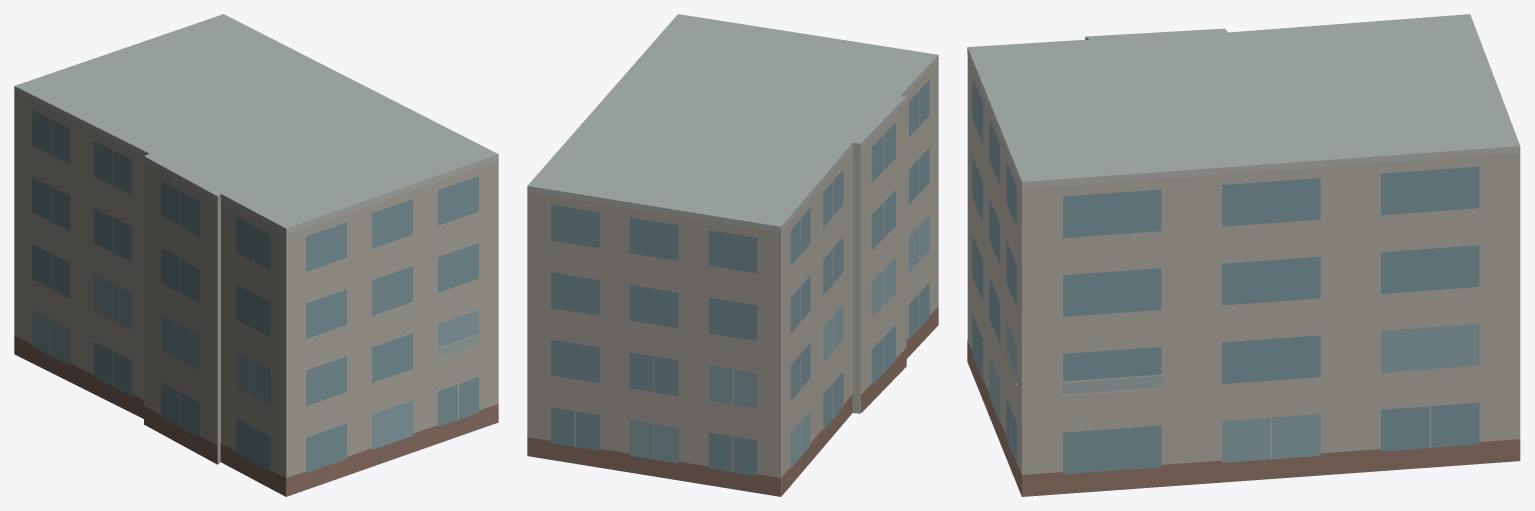
The model's file is survey-upis-32527064.glb.
The picture shows the model from 3 angles, left to right: view 1: azimuth 30°, elevation 25°; view 2: azimuth 150°, elevation 25°; view 3: azimuth 270°, elevation 25°; orthographic projection. The views are drawn at different scales.
Visible parts, largest first — view 1: survey-upis-32527064.tmp; view 2: survey-upis-32527064.tmp; view 3: survey-upis-32527064.tmp.
Part boxes in pixels (<box>): survey-upis-32527064.tmp: <box>14,14,498,496</box>; survey-upis-32527064.tmp: <box>527,14,938,496</box>; survey-upis-32527064.tmp: <box>967,14,1520,496</box>.
Size of the model in its own units: 12.89 by 11.26 by 17.93.
